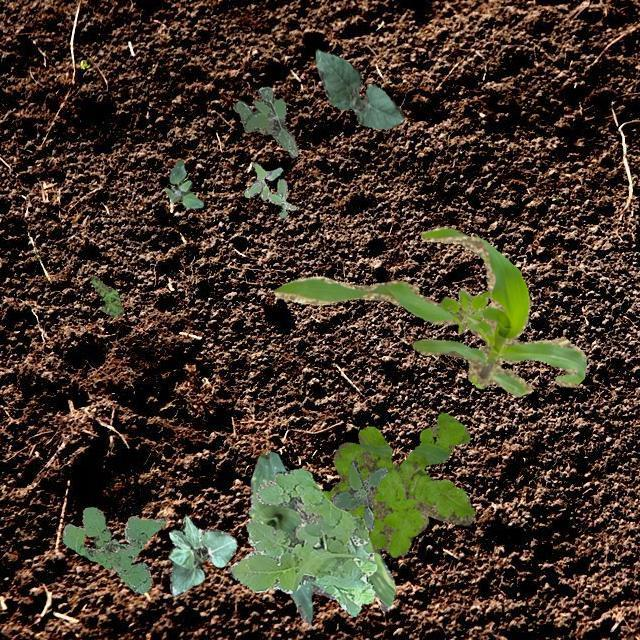crop: (274, 227, 586, 396), (248, 450, 334, 624), (314, 48, 402, 128), (168, 512, 235, 596), (366, 548, 394, 610)
weed: (227, 468, 376, 616), (322, 412, 474, 556), (61, 507, 166, 592), (232, 86, 296, 156), (329, 460, 386, 530), (243, 162, 294, 216), (439, 286, 492, 334), (164, 158, 202, 208), (90, 274, 122, 318)
